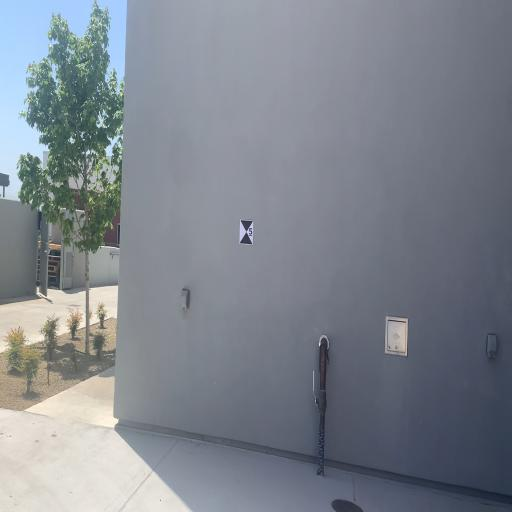target5: (239, 218, 254, 246)
